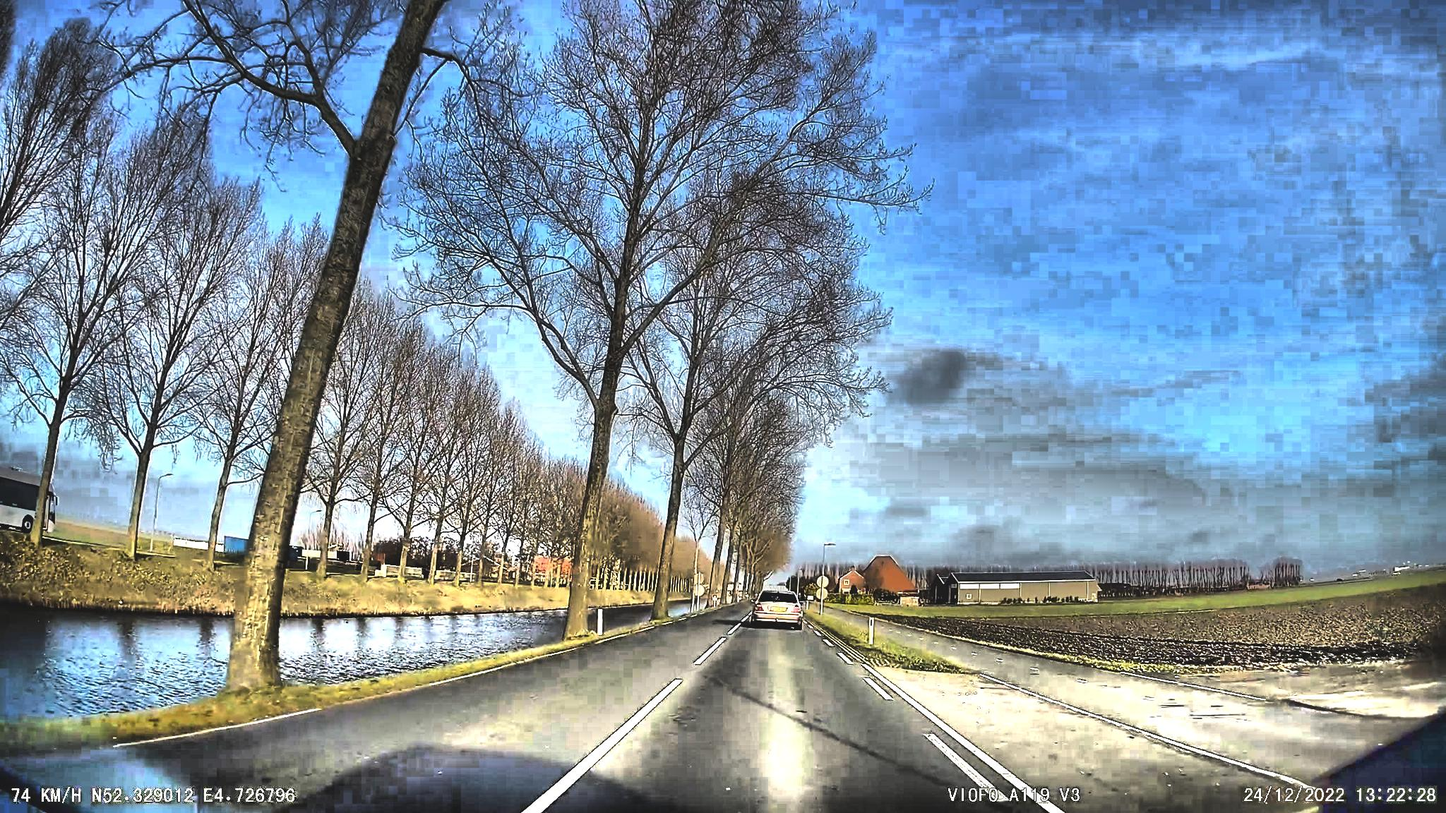Roads: (6, 622, 1446, 813)
